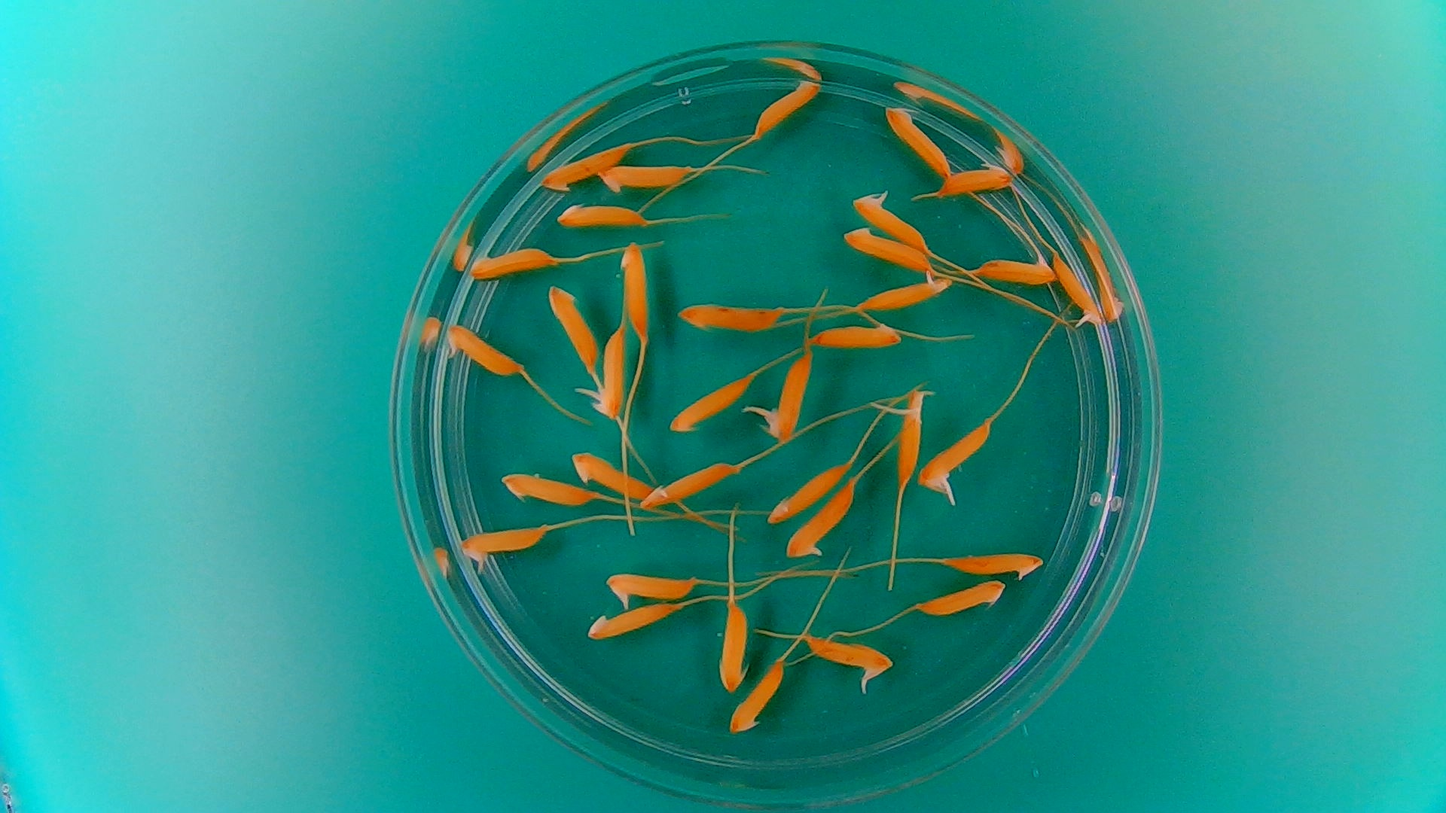no: (639, 457, 742, 510), (882, 103, 954, 178), (667, 372, 752, 434), (538, 139, 630, 196), (769, 461, 848, 524), (728, 655, 786, 735), (547, 284, 600, 371), (840, 224, 934, 272), (569, 448, 654, 499), (674, 297, 784, 336), (754, 80, 823, 139), (583, 601, 684, 641), (499, 470, 593, 509), (917, 577, 1006, 617), (596, 160, 691, 196), (618, 236, 651, 337), (947, 547, 1045, 581), (467, 244, 556, 281), (809, 317, 905, 350), (938, 158, 1017, 198), (718, 598, 751, 693), (551, 202, 651, 229)
yes: (783, 480, 861, 560), (917, 417, 997, 493), (850, 188, 932, 248), (440, 321, 520, 379), (802, 631, 892, 681), (1050, 251, 1106, 330), (887, 384, 929, 489), (770, 354, 813, 445), (859, 271, 954, 312), (456, 523, 547, 565), (600, 574, 697, 609), (593, 330, 630, 419), (975, 251, 1056, 288)
